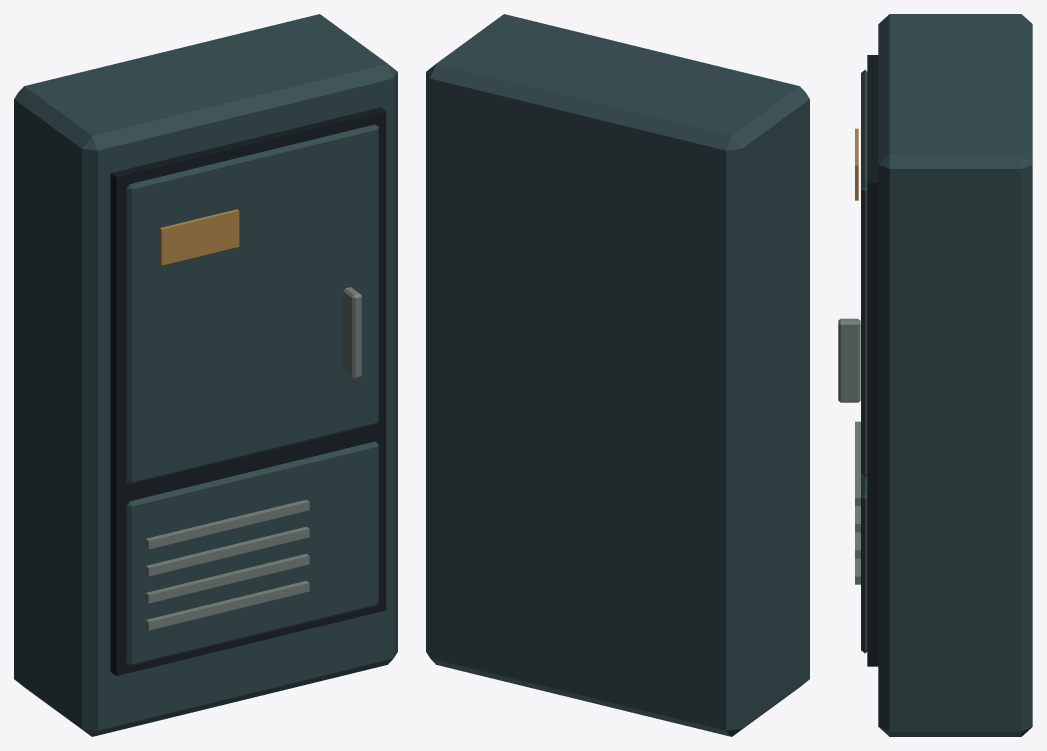
Rendered from service_cabinet.glb.
The picture shows the model from 3 angles, left to right: view 1: azimuth 30°, elevation 25°; view 2: azimuth 150°, elevation 25°; view 3: azimuth 270°, elevation 25°; orthographic projection. The views are drawn at different scales.
Parts seen in each view (by area): view 1: service_cabinet; view 2: service_cabinet; view 3: service_cabinet.
Part boxes in pixels (left/top/right/bottom): service_cabinet: left=14, top=14, right=397, bottom=736; service_cabinet: left=426, top=14, right=809, bottom=736; service_cabinet: left=838, top=14, right=1032, bottom=736.
Size of the model in its own units: 1.1 by 2 by 0.605.
